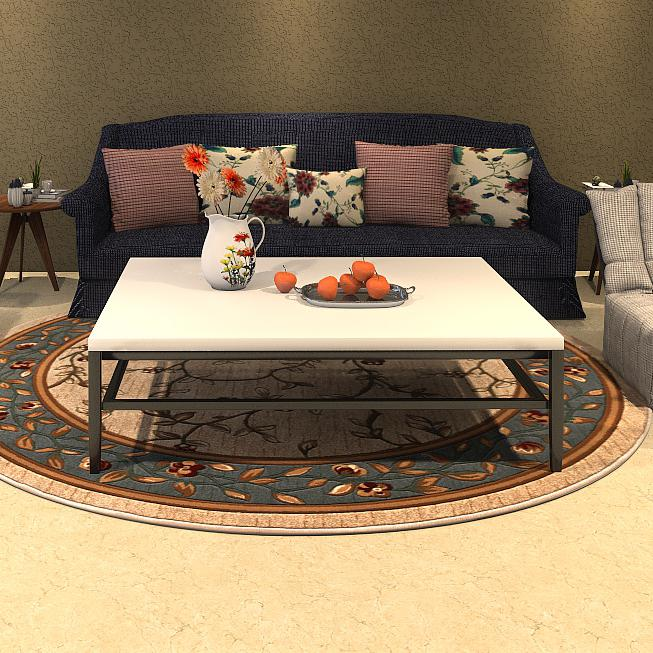table: (87, 256, 568, 474)
